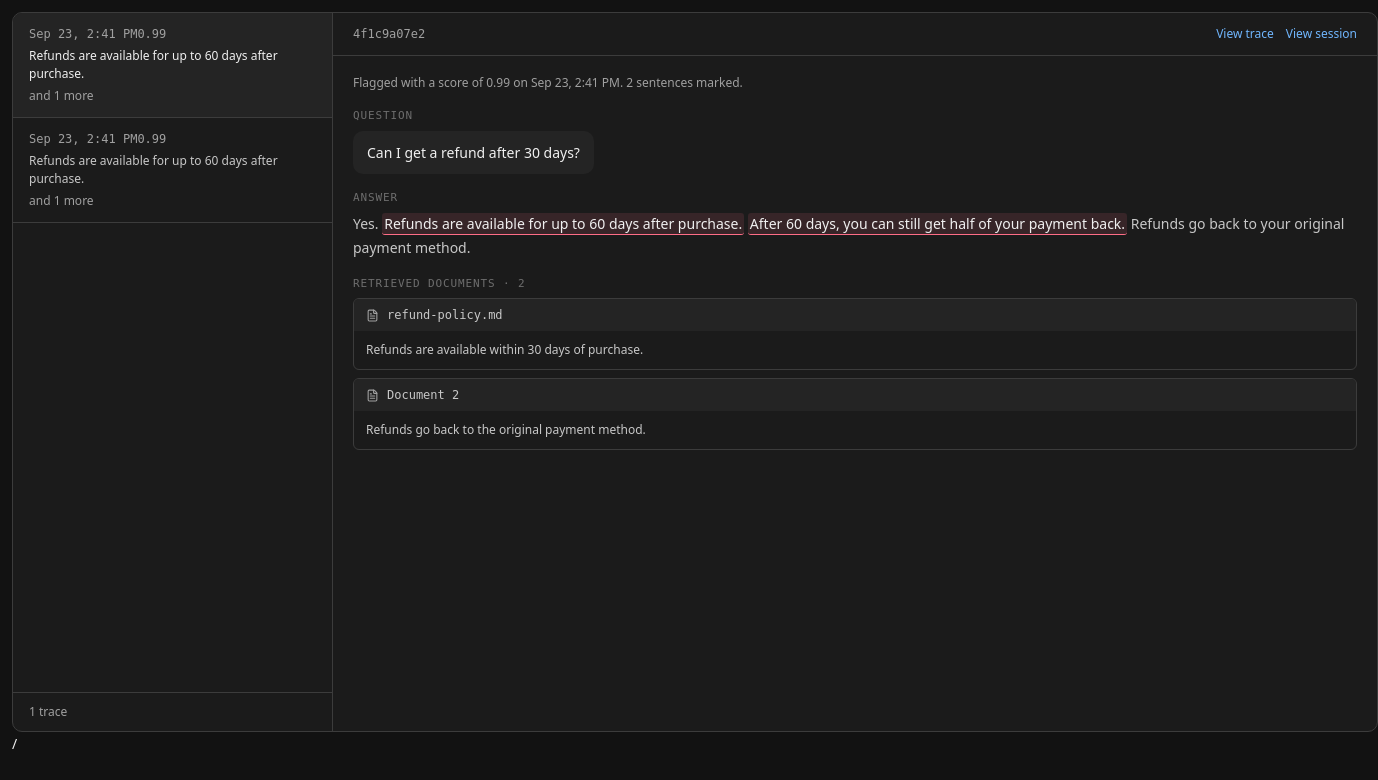
Test: FlaggedAnswers › shows the answer picked from the list, and marks its row
Expected: the text "Can I get a refund after 30 days?" is shown, 353,130 -> 594,174
What coordinates should you click on to do the following:
click the 2nd button
I would click on:
 (172, 170)
Its box is 13,118 -> 332,223.
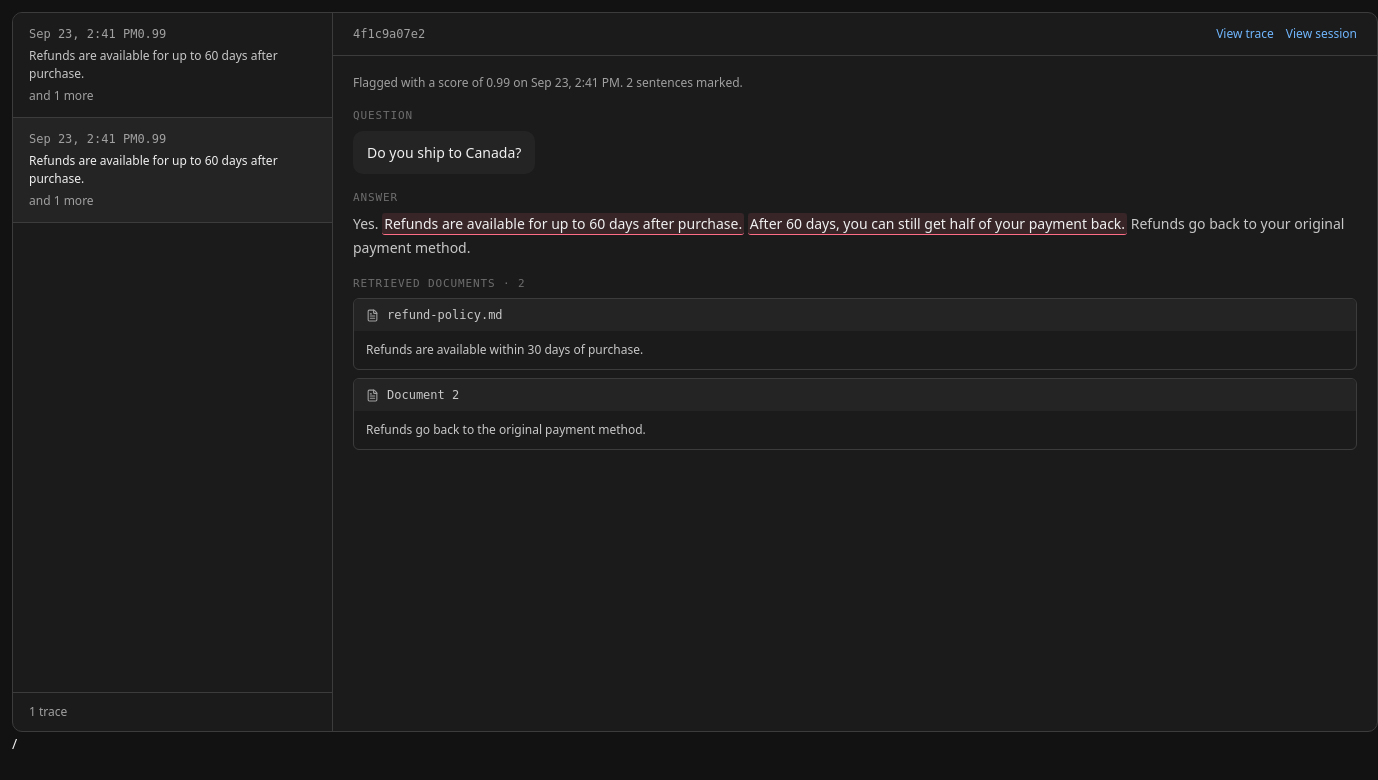
Expected: the text "Do you ship to Canada?" is shown, 353,130 -> 535,174
